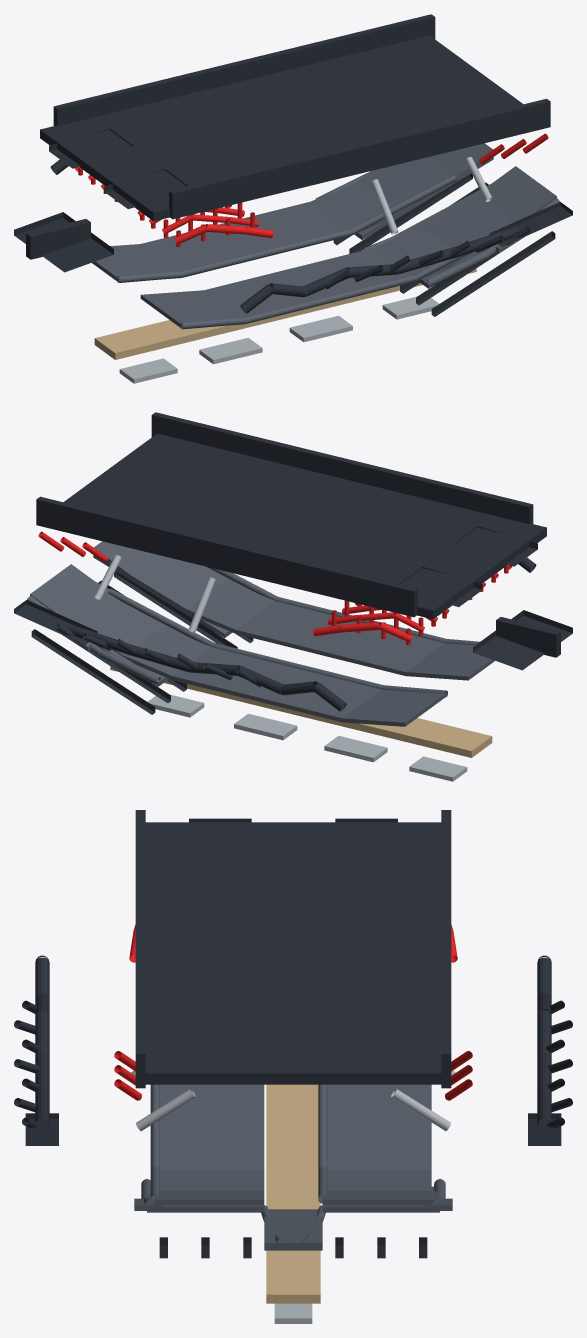
File: FORMULA_EV_V3_EXPLODED_UNDERFLOOR.glb
The picture shows the model from 3 angles, top to bottom: view 1: azimuth 30°, elevation 25°; view 2: azimuth 150°, elevation 25°; view 3: azimuth 270°, elevation 25°; orthographic projection. The views are drawn at different scales.
Parts seen in each view (by area): view 1: 22_upper_floor_body, 23_left_venturi_tunnel, 24_right_venturi_tunnel, 27_left_floor_edge_wing, 30_titanium_skid_set, 29_central_plank, 31_bib_tea_tray, 34_diffuser_strakes, 25_left_inlet_fences_x4, 32_left_diffuser, 37_floor_stays, 33_right_diffuser (+2 smaller); view 2: 22_upper_floor_body, 24_right_venturi_tunnel, 23_left_venturi_tunnel, 28_right_floor_edge_wing, 30_titanium_skid_set, 29_central_plank, 31_bib_tea_tray, 34_diffuser_strakes, 26_right_inlet_fences_x4, 33_right_diffuser, 37_floor_stays, 32_left_diffuser (+1 smaller); view 3: 22_upper_floor_body, 23_left_venturi_tunnel, 24_right_venturi_tunnel, 29_central_plank, 27_left_floor_edge_wing, 28_right_floor_edge_wing, 35_boat_tail_keel, 37_floor_stays, 33_right_diffuser, 36_rear_wake_fences, 32_left_diffuser, 34_diffuser_strakes (+1 smaller).
Part boxes in pixels (<box>): 22_upper_floor_body: <box>40,14,550,221</box>; 23_left_venturi_tunnel: <box>140,166,556,329</box>; 24_right_venturi_tunnel: <box>92,143,492,282</box>; 27_left_floor_edge_wing: <box>240,202,572,313</box>; 30_titanium_skid_set: <box>119,296,438,383</box>; 29_central_plank: <box>94,268,476,359</box>; 31_bib_tea_tray: <box>14,212,113,272</box>; 34_diffuser_strakes: <box>333,173,555,316</box>; 25_left_inlet_fences_x4: <box>137,202,273,247</box>; 32_left_diffuser: <box>418,197,559,288</box>; 37_floor_stays: <box>371,157,492,234</box>; 33_right_diffuser: <box>315,157,493,239</box>; 22_upper_floor_body: <box>36,412,546,619</box>; 24_right_venturi_tunnel: <box>30,564,447,726</box>; 23_left_venturi_tunnel: <box>94,541,494,680</box>; 28_right_floor_edge_wing: <box>14,600,346,711</box>; 30_titanium_skid_set: <box>148,694,467,781</box>; 29_central_plank: <box>110,666,492,757</box>; 31_bib_tea_tray: <box>473,610,572,670</box>; 34_diffuser_strakes: <box>31,571,253,714</box>; 26_right_inlet_fences_x4: <box>313,600,449,645</box>; 33_right_diffuser: <box>27,595,168,686</box>; 37_floor_stays: <box>94,555,215,632</box>; 32_left_diffuser: <box>93,555,235,637</box>; 22_upper_floor_body: <box>135,810,451,1088</box>; 23_left_venturi_tunnel: <box>150,1084,264,1204</box>; 24_right_venturi_tunnel: <box>318,1084,431,1204</box>; 29_central_plank: <box>266,1084,320,1303</box>; 27_left_floor_edge_wing: <box>14,955,58,1145</box>; 28_right_floor_edge_wing: <box>528,955,572,1145</box>; 35_boat_tail_keel: <box>261,1205,325,1250</box>; 37_floor_stays: <box>131,1070,455,1131</box>; 33_right_diffuser: <box>322,1179,452,1212</box>; 36_rear_wake_fences: <box>114,1051,472,1100</box>; 32_left_diffuser: <box>134,1179,264,1212</box>; 34_diffuser_strakes: <box>159,1237,427,1258</box>.
Bounding box in the file's own units: 175 × 80.95 × 134.
